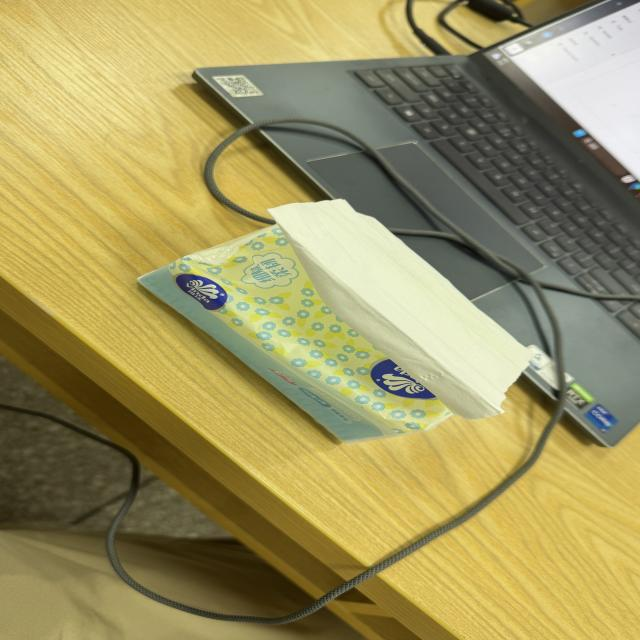tissue: (139, 226, 451, 443), (268, 200, 530, 418)
